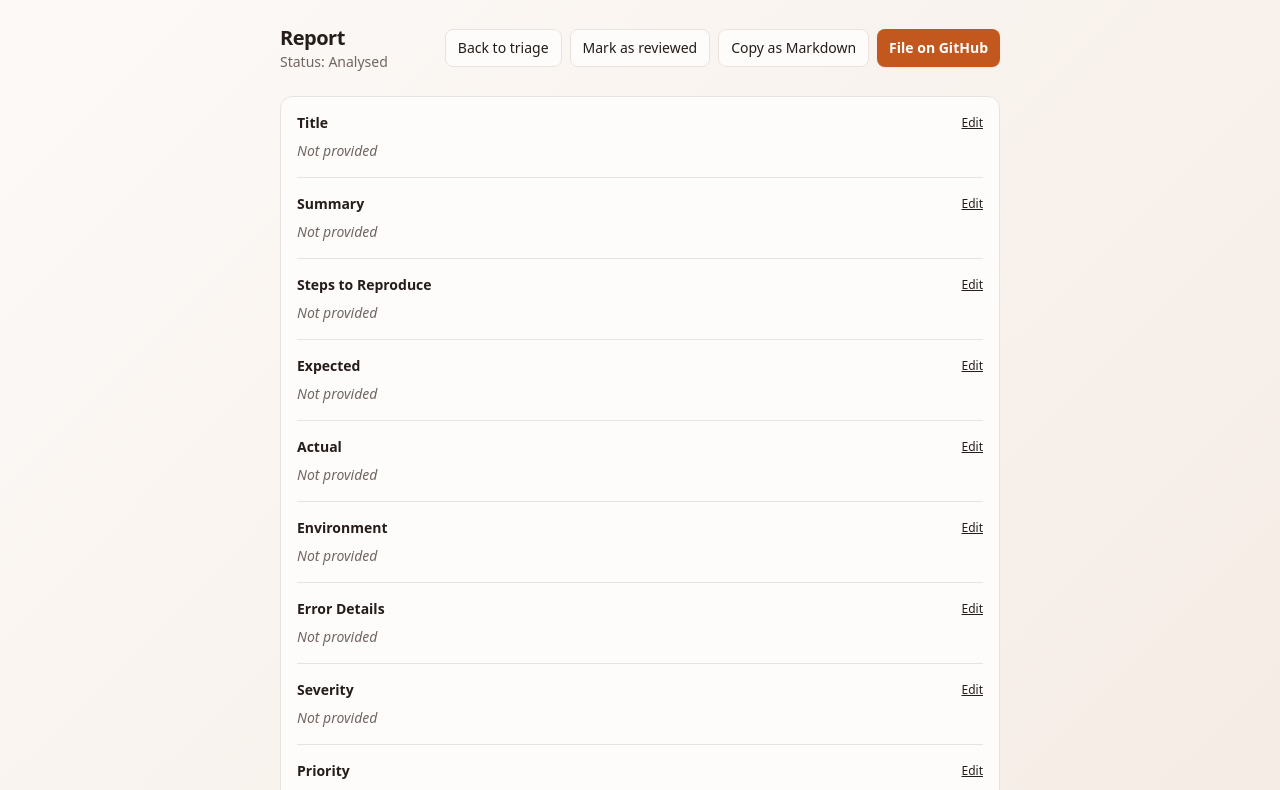
Test: GeneratedReport › marks an analysed report as reviewed
Click the button "Mark as reviewed": click(640, 48) 570,29 -> 710,67
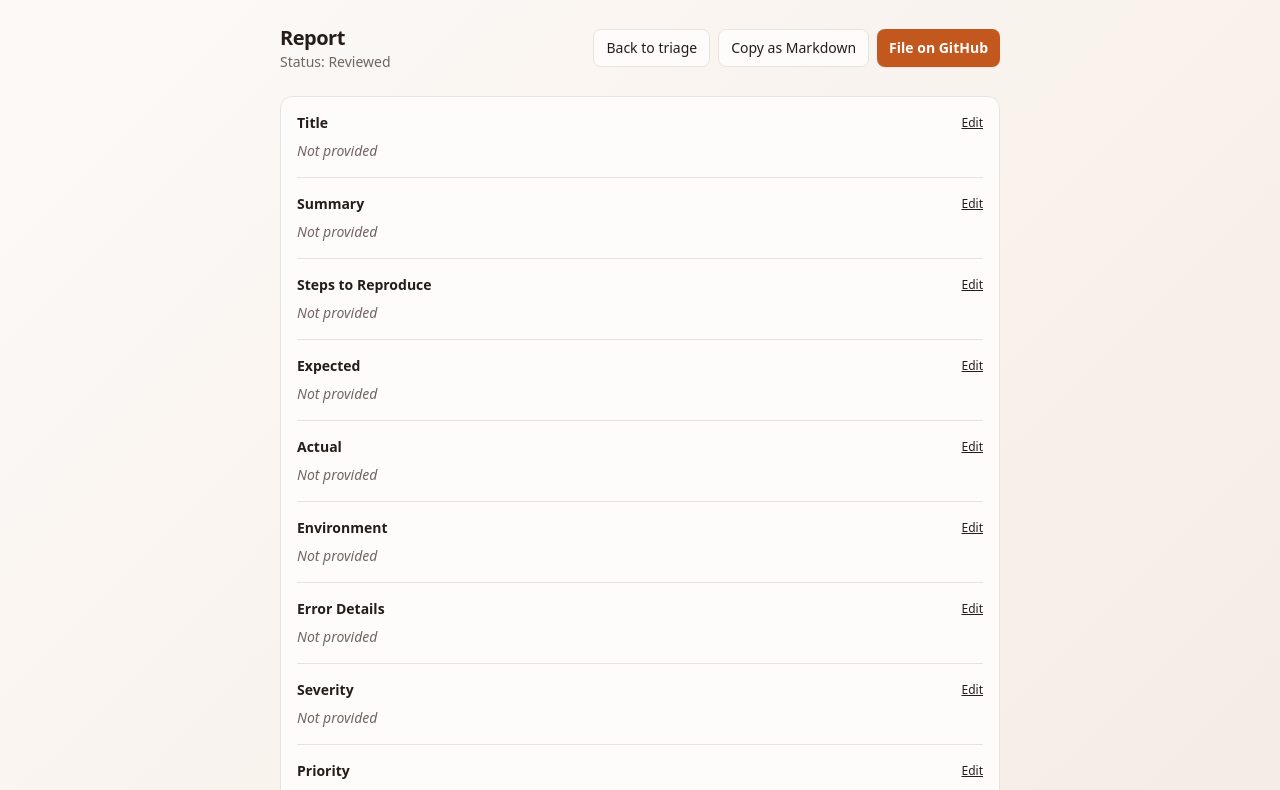
Expected: the text "Status: Reviewed" is shown, 280,52 -> 391,72
